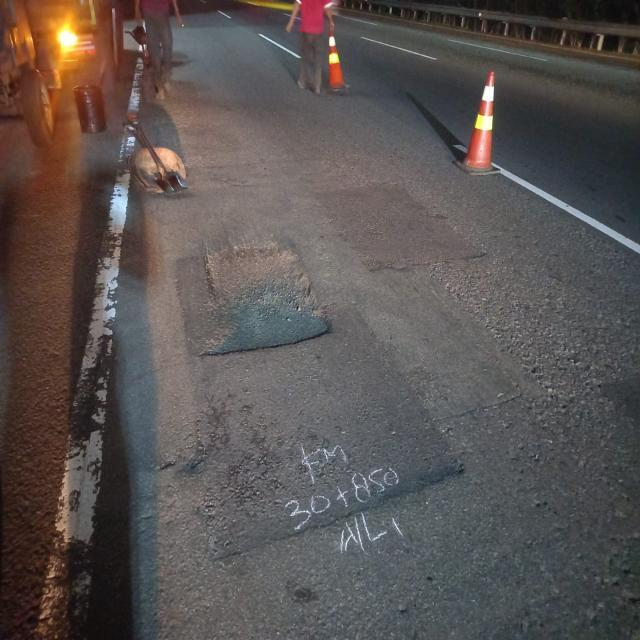Buraco: (190, 237, 339, 362), (169, 58, 187, 68)
